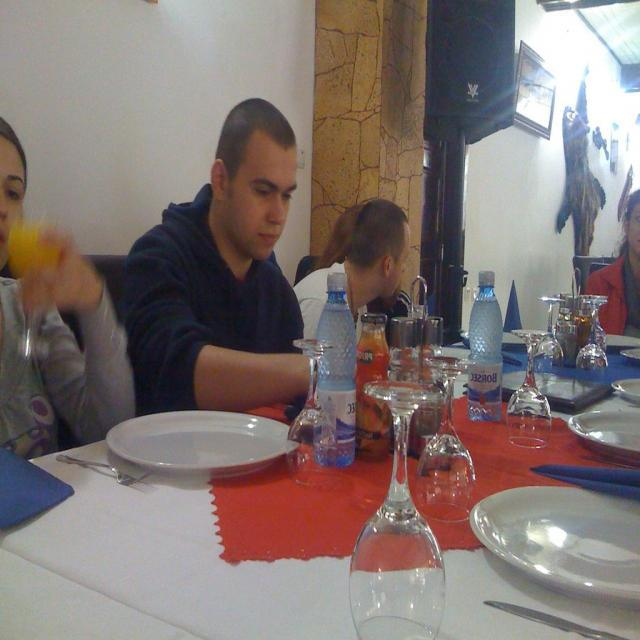ceramic plate: (80, 382, 306, 528)
